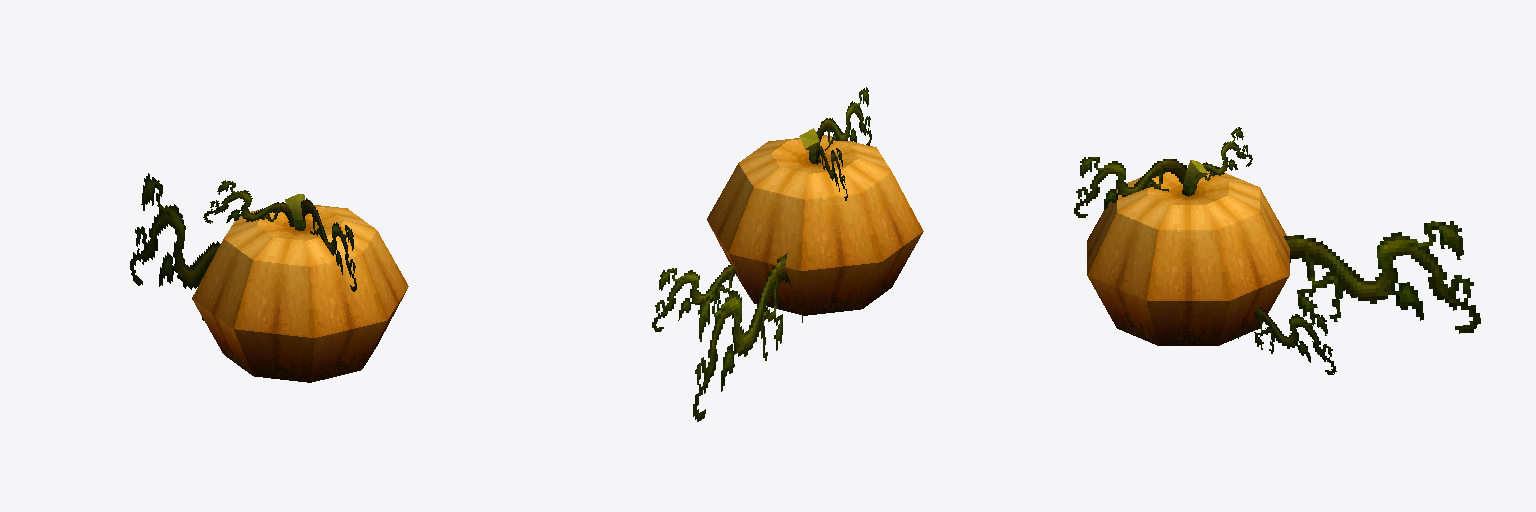
3 renders of one model, left to right at view 1: azimuth 30°, elevation 25°; view 2: azimuth 150°, elevation 25°; view 3: azimuth 270°, elevation 25°, orthographic.
Parts seen in each view (by area): view 1: object 1; view 2: object 1; view 3: object 1.
Part boxes in pixels (x1,y1,x2,y2): object 1: (130, 173, 408, 382); object 1: (652, 87, 923, 421); object 1: (1074, 127, 1480, 374).
Size of the model in its own units: 1.69 by 1.96 by 3.44.
Materials: 1 (1 with a texture image).